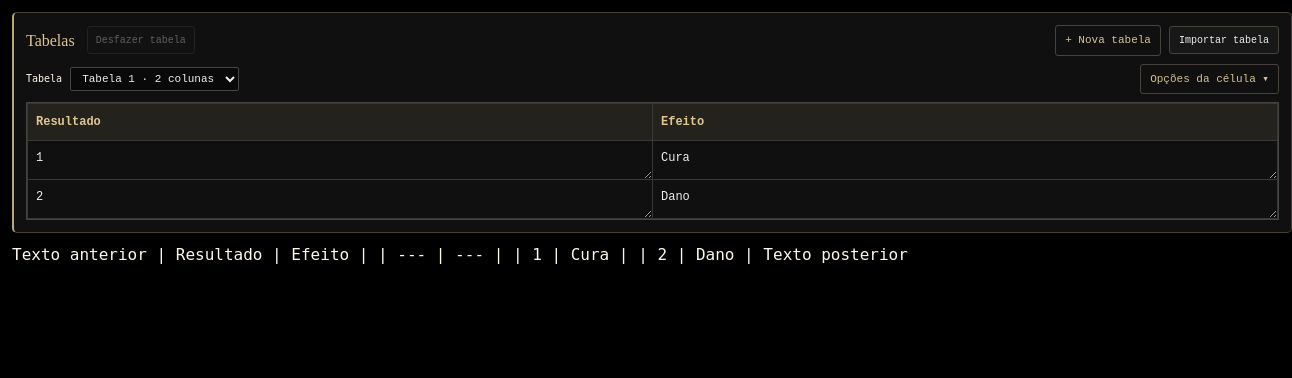
cria tabela com dimensões escolhidas e permite selecioná-la
Click the heading "+ Nova tabela" at {"x": 1108, "y": 40}, box [1055, 25, 1161, 56]
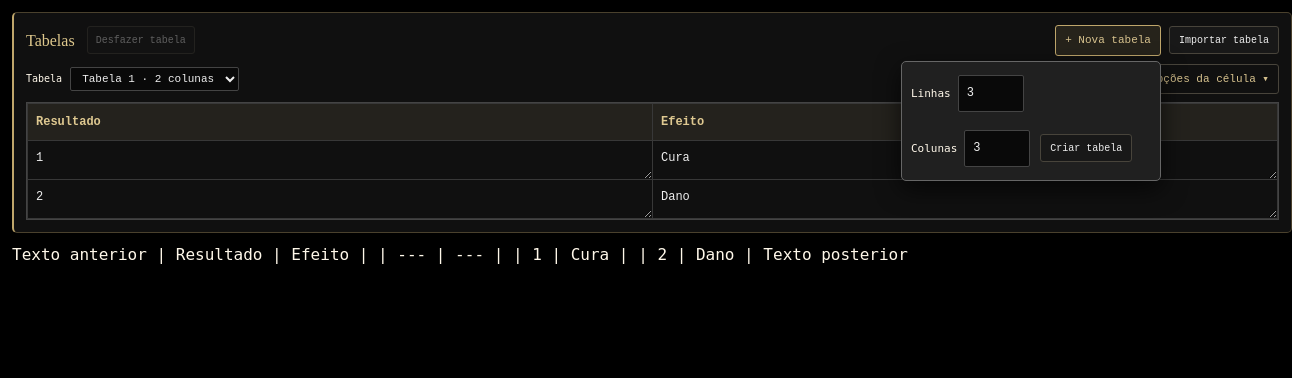
Replace the text in the number field labelled "Linhas" with "4" at {"x": 991, "y": 93}, box [958, 74, 1024, 112]
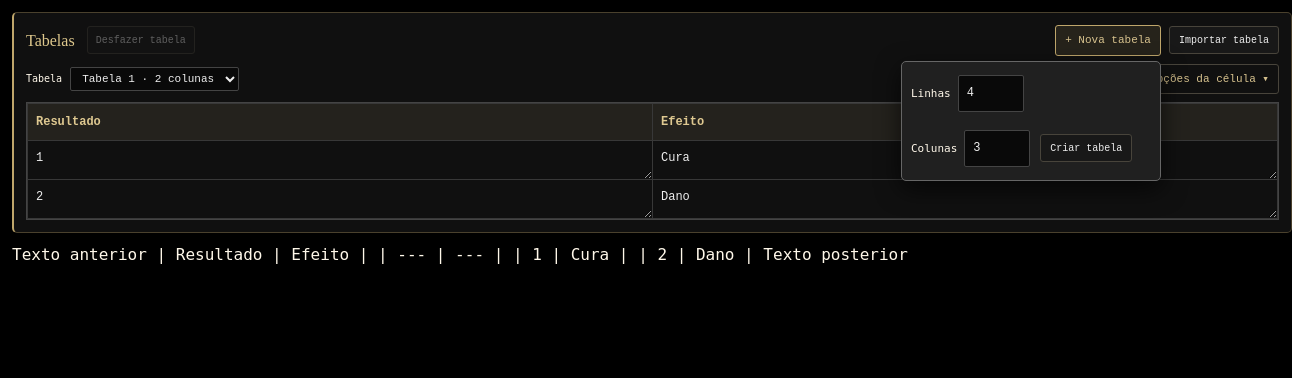
Replace the text in the number field labelled "Colunas" with "5" at {"x": 997, "y": 148}, box [964, 130, 1030, 167]
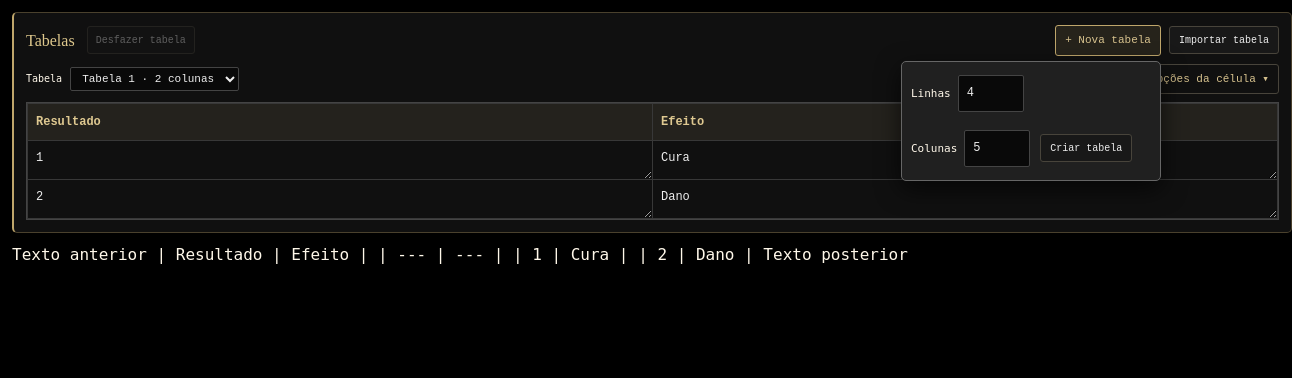
Click the button "Criar tabela" at {"x": 1086, "y": 148}, box [1040, 134, 1132, 162]
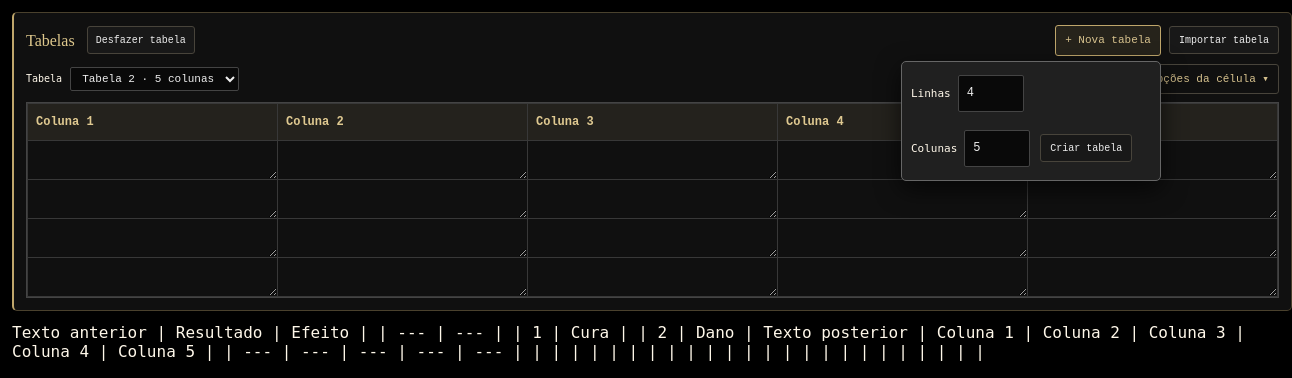
Expected: the text box named "Linha 4, coluna 5" is shown, [1028, 258, 1277, 296]
Select "Tabela 1 · 2 colunas" in the dropdown named "Selecionar tabela" at {"x": 155, "y": 79}, box [70, 67, 239, 91]
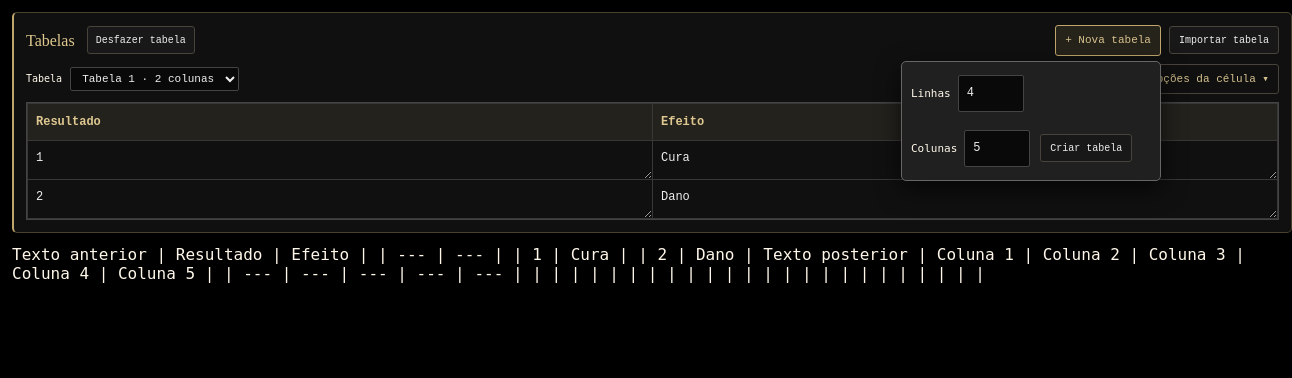
Expected: the field named "Cabeçalho 1" holds "Resultado", [28, 104, 652, 140]
